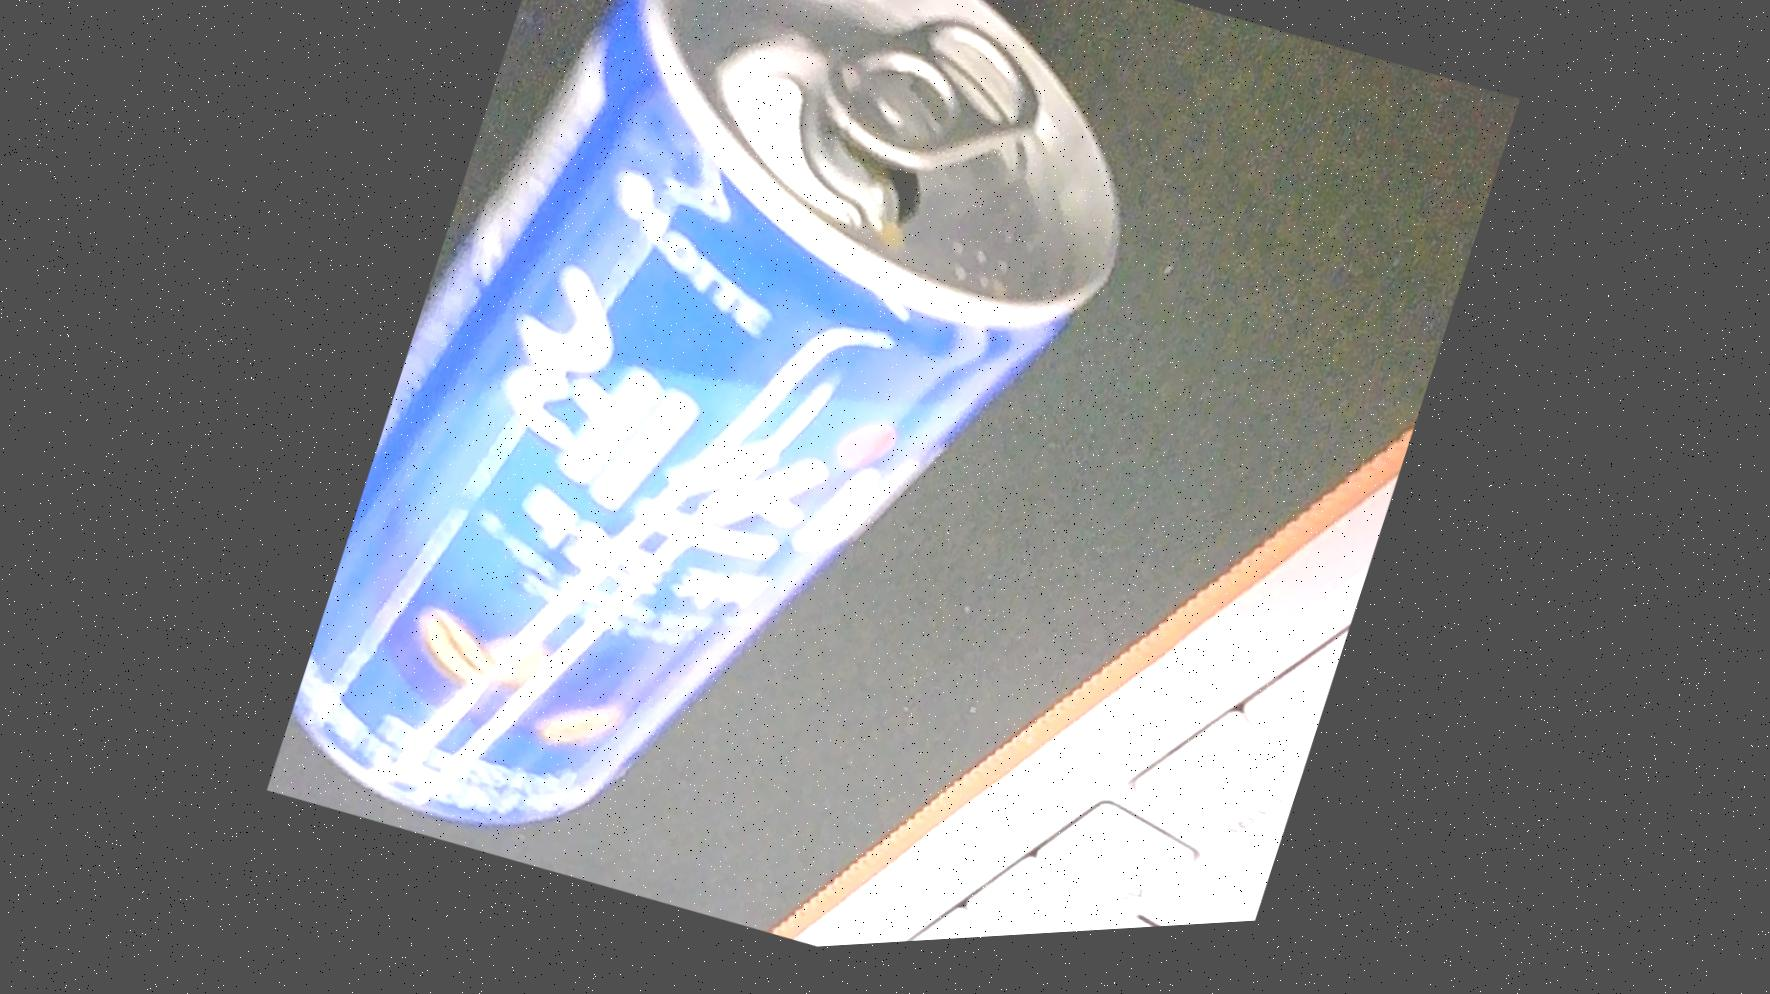letsbe: (259, 0, 1210, 982)
